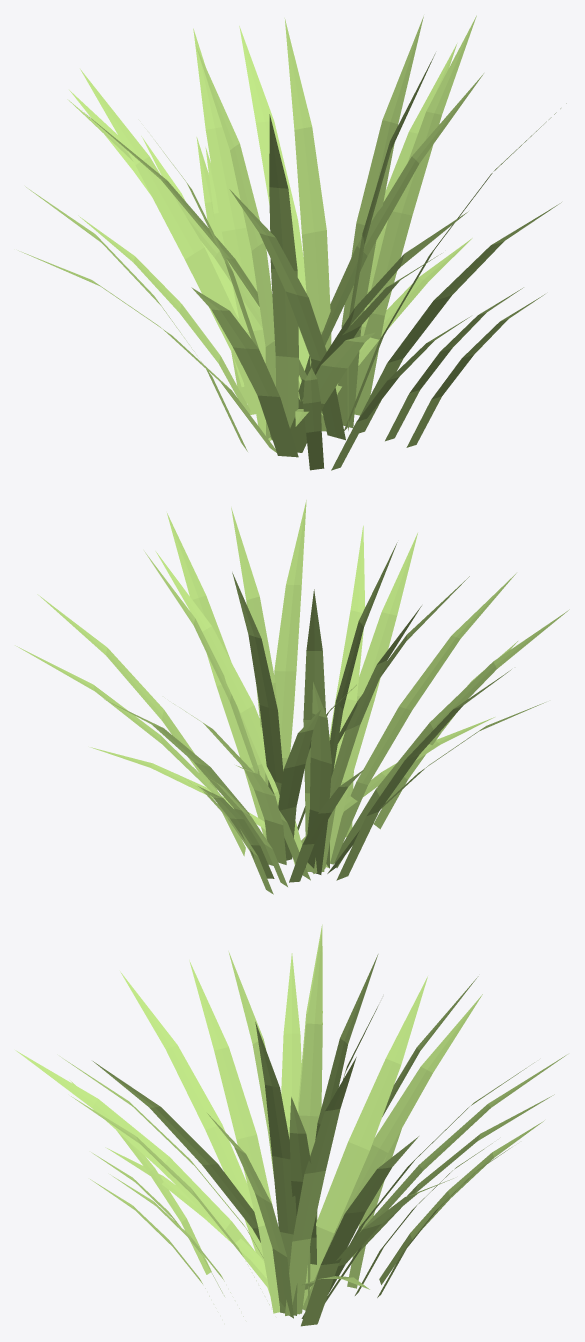
File: grass2.fbx
3 views of the same model, one above another, from view 1: azimuth 30°, elevation 25°; view 2: azimuth 150°, elevation 25°; view 3: azimuth 270°, elevation 25° (orthographic). The views are drawn at different scales.
Parts seen in each view (by area): view 1: Plane.018; view 2: Plane.018; view 3: Plane.018.
Part boxes in pixels (<box>): Plane.018: <box>18,15,566,470</box>; Plane.018: <box>15,500,569,894</box>; Plane.018: <box>15,924,567,1326</box>.
Size of the model in its own units: 118 by 80.2 by 122.
